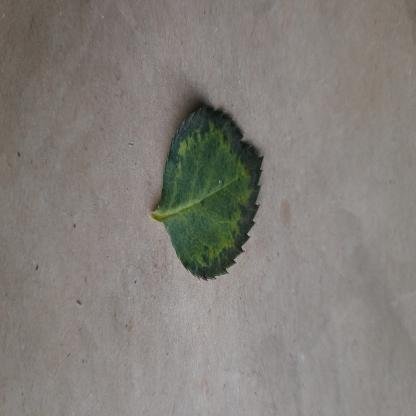downy-mildew: (160, 100, 264, 282)
